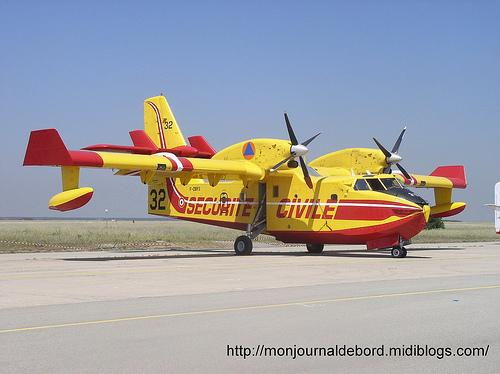Aeronef_de_service: (19, 87, 477, 261)
